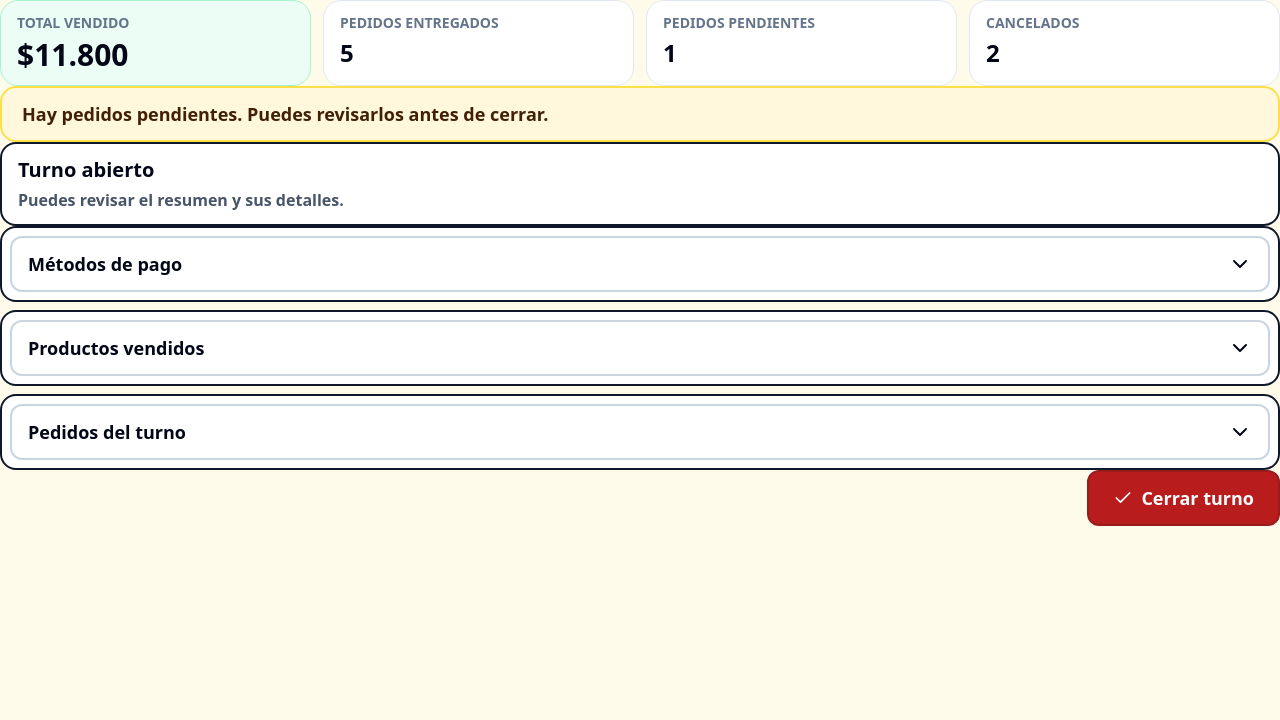
it: resumen de cierre de turno en modo fácil › abre y cierra el acordeón Pedidos del turno actualizando aria-expanded
The image size is (1280, 720).
Expected: the text "#6" is not shown
Click the button "Pedidos del turno". click: [107, 432]
box: [10, 404, 1270, 460]
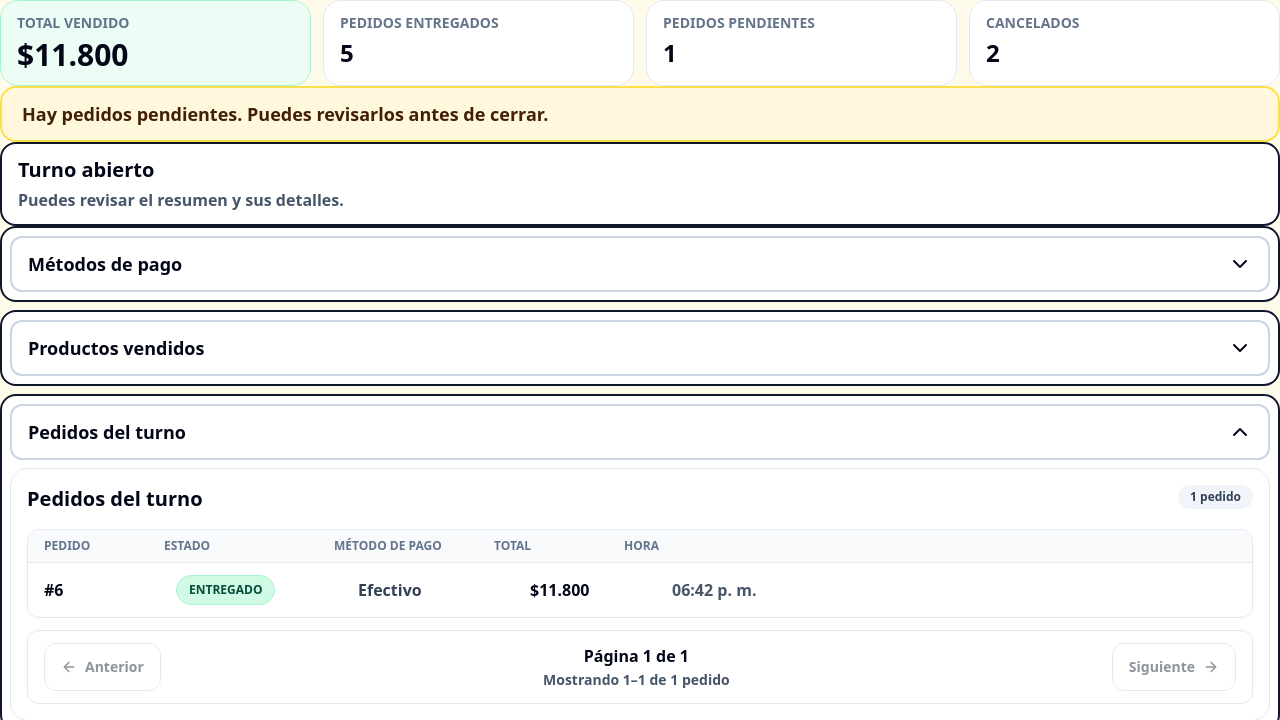
Result: the button "Pedidos del turno" is expanded
Result: the text "#6" is shown at [44, 579, 64, 601]
Click the button "Pedidos del turno". click: [107, 432]
box: [10, 404, 1270, 460]
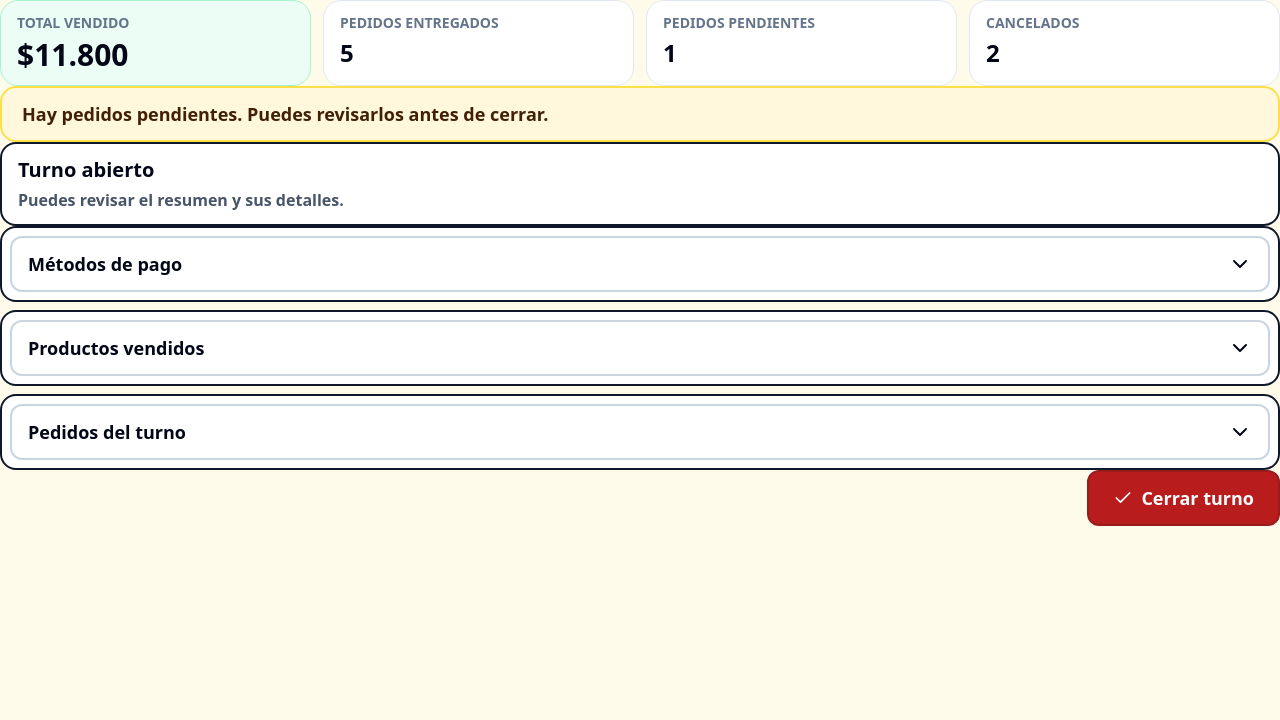
Result: the button "Pedidos del turno" is collapsed at [10, 404, 1270, 460]
Result: the text "#6" is gone
